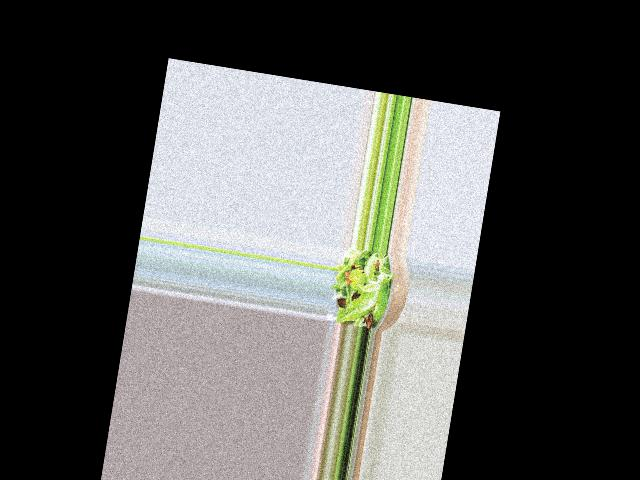lettuce: (331, 250, 395, 324)
